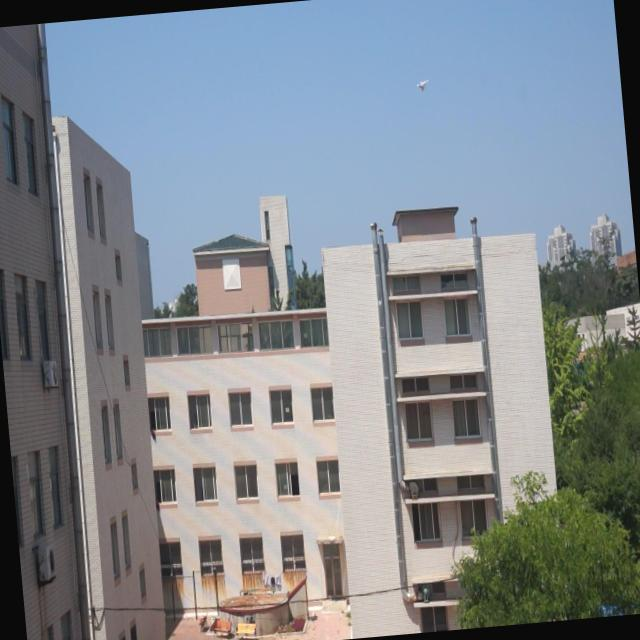drone: (413, 76, 430, 95)
